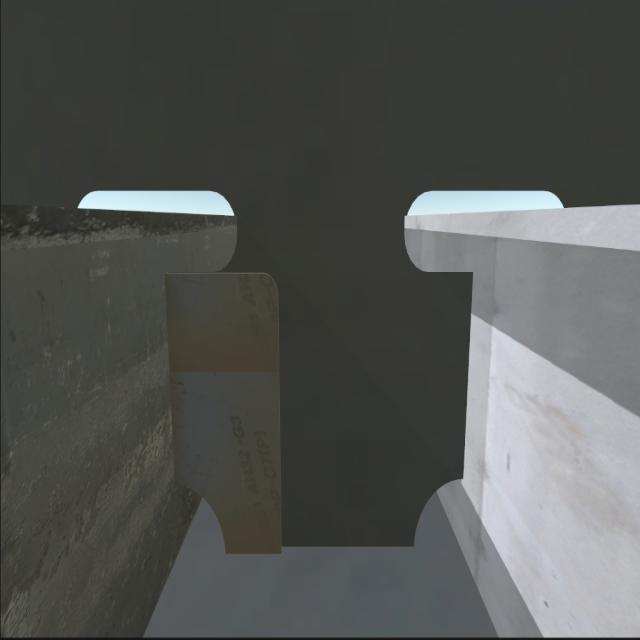fillet_hole: (411, 475, 470, 545), (177, 492, 224, 552)
fillet_yong_jeop_jang: (213, 538, 425, 557)
longi_yong_jeop_jang: (157, 267, 184, 495), (452, 263, 474, 483)
plate_CP05: (169, 275, 280, 557)
